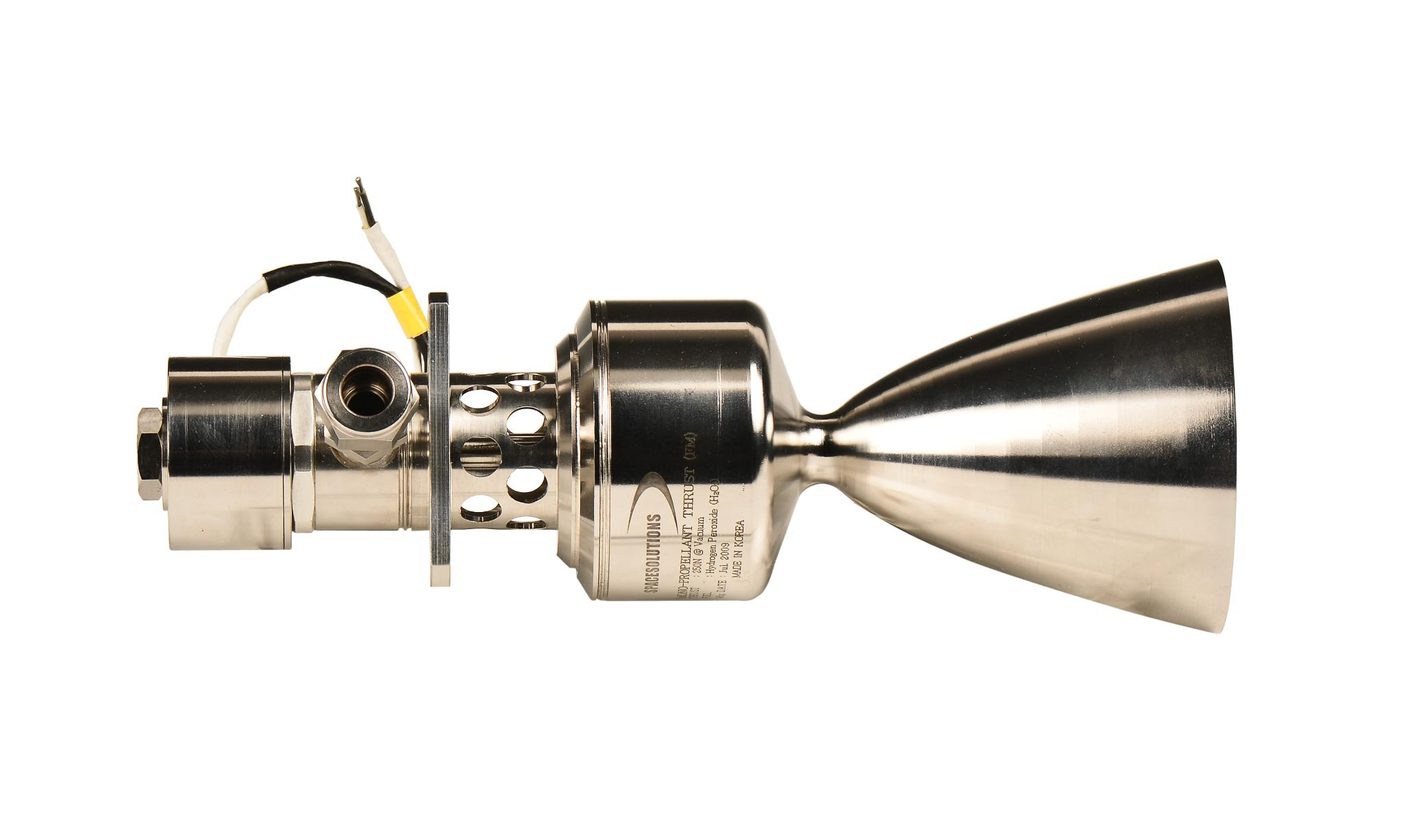thruster: (824, 254, 1249, 637)
